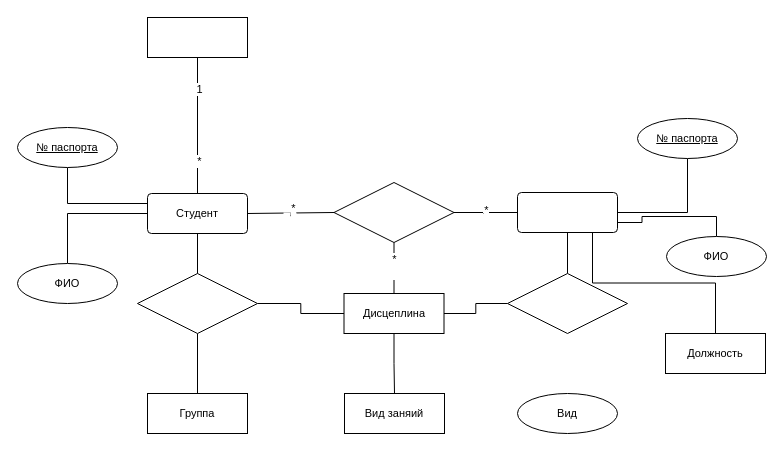
The diagram is 784 pixels wide and 451 high, and some of its shapes have lost their labels. The centre of each missing label's shape, as x and y in pixels:
"Ведомость" belongs at pixel 393 212.
"Директор" belongs at pixel 197 37.
"Нагрузка" belongs at pixel 567 303.
"Обучается" belongs at pixel 197 303.
"Преподаватель" belongs at pixel 567 212.
